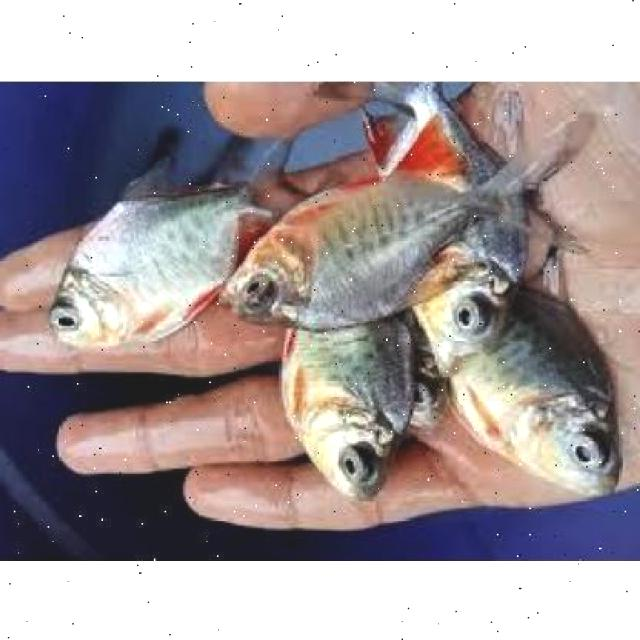ikan-pacu: (226, 163, 482, 334), (42, 169, 266, 354), (446, 267, 616, 490), (280, 302, 428, 496)
